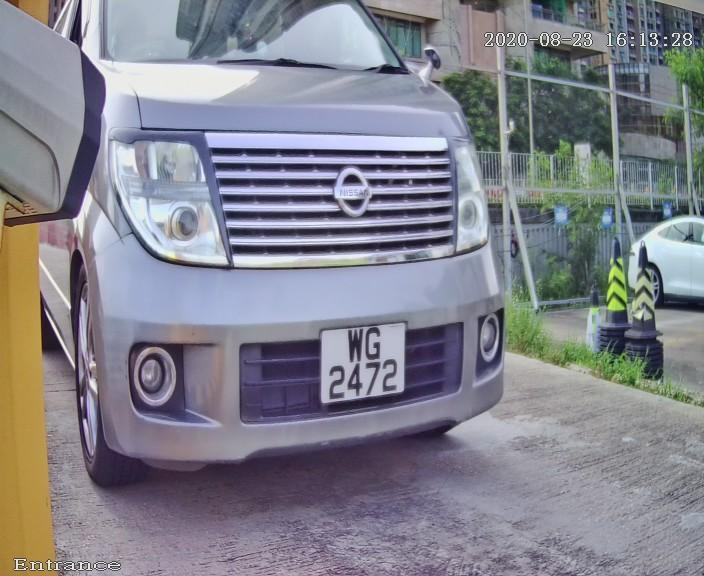Car: (1, 3, 560, 515)
License Plate: (312, 312, 415, 415)
